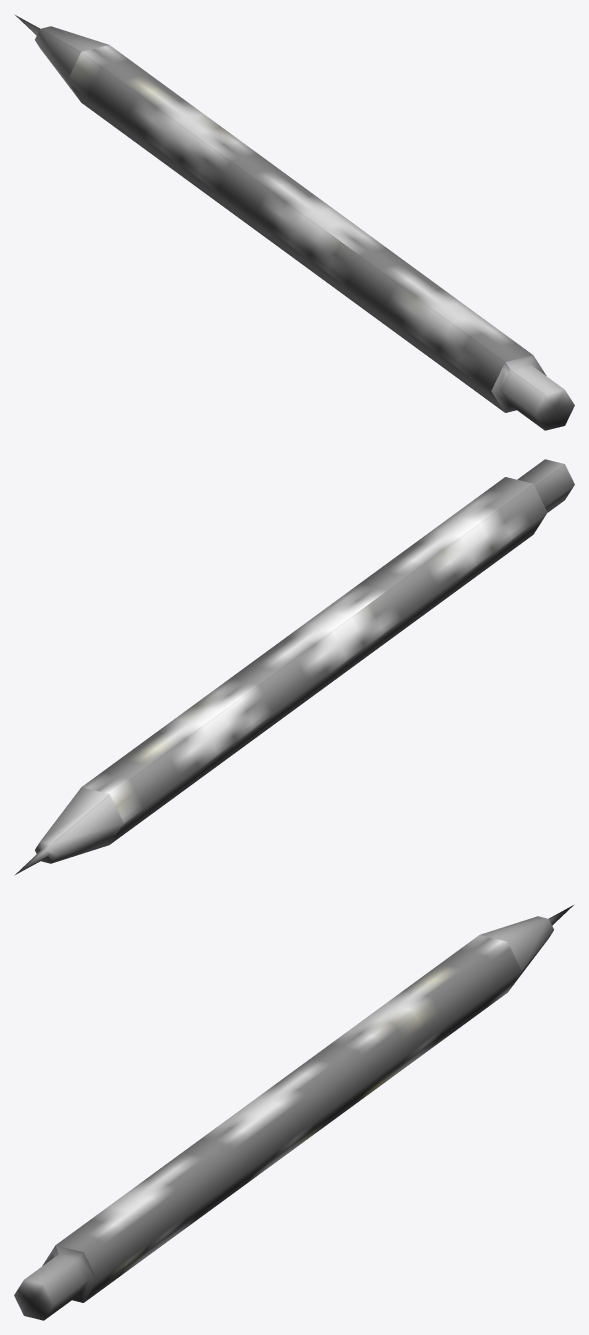
The model's file is pen_typeB4.FBX.
3 views of the same model, one above another, from view 1: azimuth 30°, elevation 25°; view 2: azimuth 150°, elevation 25°; view 3: azimuth 330°, elevation 25° (orthographic).
Visible parts, largest first — view 1: penB4; view 2: penB4; view 3: penB4.
Boxes of the visible parts, bbox=[...] form: penB4: bbox=[14, 14, 574, 430]; penB4: bbox=[14, 459, 574, 875]; penB4: bbox=[14, 904, 574, 1320].
Size of the model in its own units: 1.09 by 0.9414 by 18.1.
